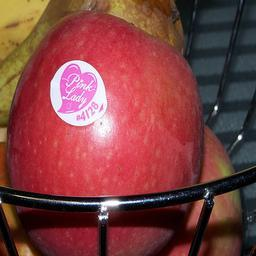apple: (4, 9, 204, 256)
